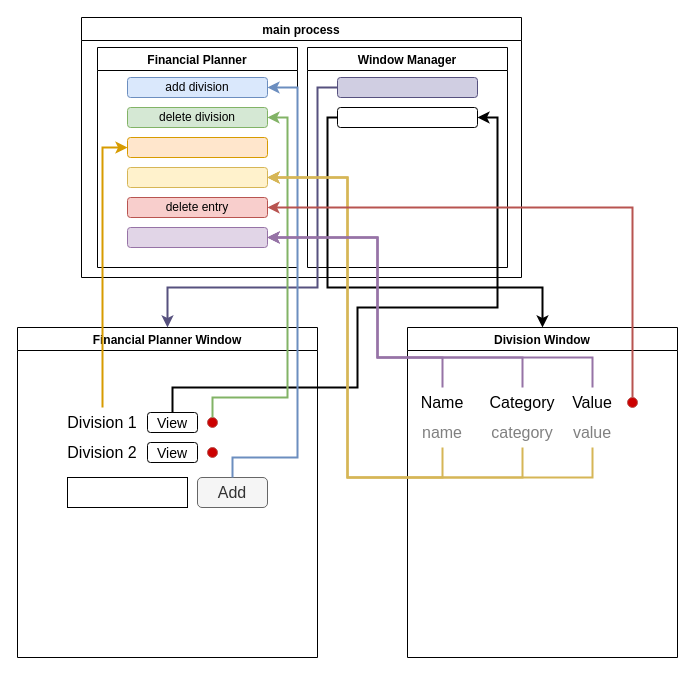
The diagram is 695 pixels wide and 675 high, and some of its shapes have lost their labels. The shapes that lost their labels are listed below. From the top down, each one's centre as x and y in pixels, then its label:
At [407,87]: "view financial planner".
At [407,117]: "view division".
At [197,147]: "rename division".
At [197,177]: "add entry".
At [197,237]: "edit entry".
